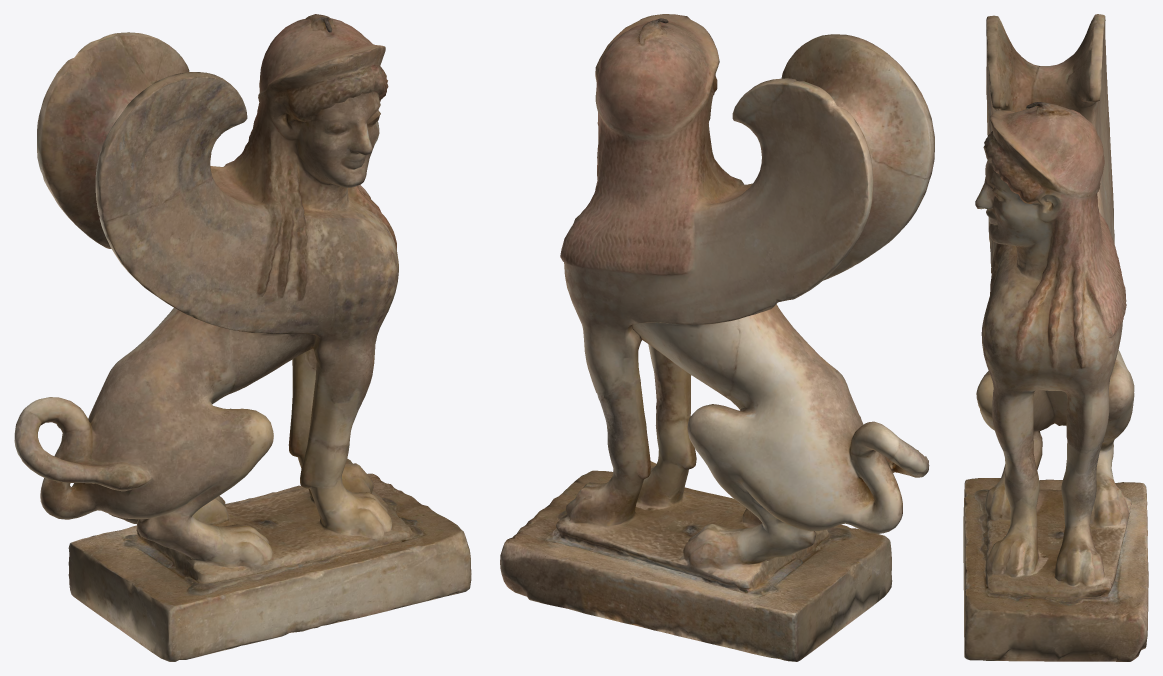
The model's file is preview.glb.
3 views of the same model, side by side, from view 1: azimuth 30°, elevation 25°; view 2: azimuth 150°, elevation 25°; view 3: azimuth 270°, elevation 25° (orthographic). The views are drawn at different scales.
Parts seen in each view (by area): view 1: defaultobject; view 2: defaultobject; view 3: defaultobject.
Part boxes in pixels (left/top/right/bottom): defaultobject: left=14, top=14, right=471, bottom=661; defaultobject: left=500, top=14, right=934, bottom=661; defaultobject: left=963, top=14, right=1148, bottom=661.
Size of the model in its own units: 0.5979 by 0.8261 by 0.2681.
Materials: 1 (1 with a texture image).
